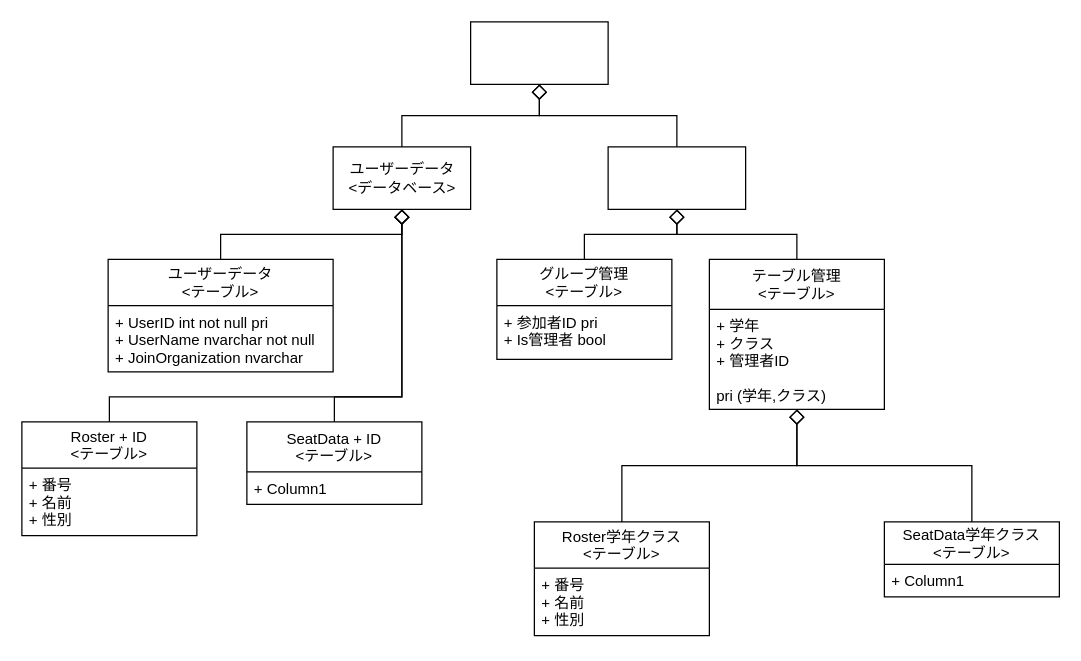
The diagram is 1081 pixels wide and 661 high, and some of its shapes have lost their labels. Here are the shapes that lost their labels. From the top down, the centre of each, then its label:
At [538,52]: "席替え <サーバー>".
At [676,177]: "グループ <データベース>".
